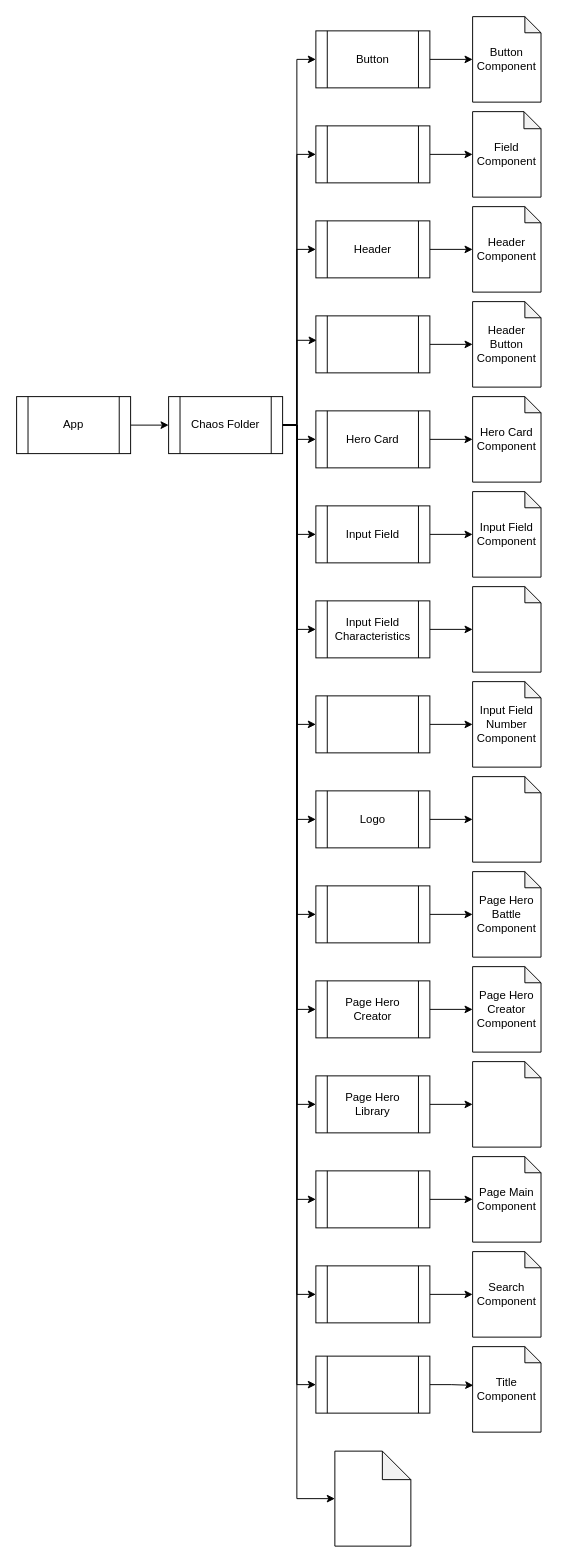
Image size: 561x1563. Some labels were removed from this diagram. The shapes that lost their labels are listed below. From the top down, each one's centre as x and y in pixels, then its label:
At point 372,154: "Field".
At point 372,344: "Header Button".
At point 506,629: "Input Field Characteristics Component".
At point 372,724: "Input Field Number".
At point 506,819: "Logo Component".
At point 372,914: "Page Hero Battle".
At point 506,1104: "Page Hero Library Component".
At point 372,1199: "Page Main".
At point 372,1294: "Search".
At point 372,1384: "Title".
At point 372,1498: "Hero Model".
